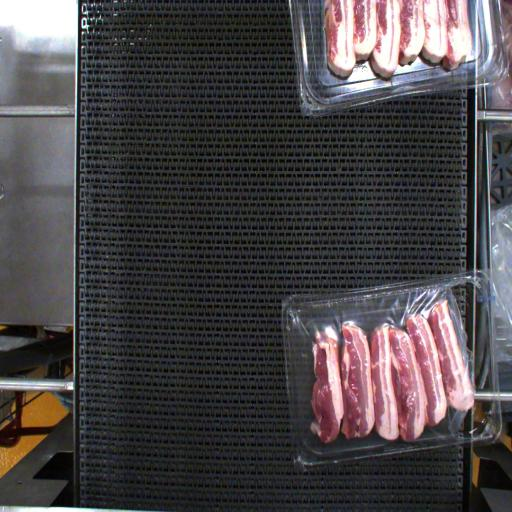unsealed: (286, 294, 481, 440)
